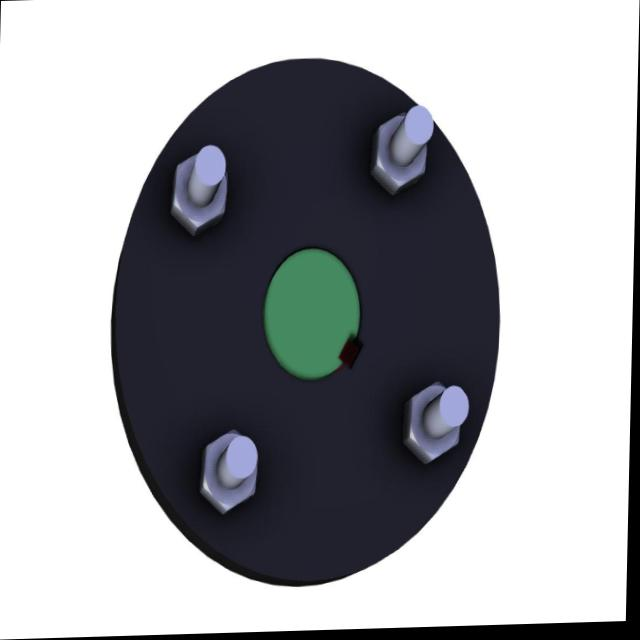Regular bolt: (370, 111, 431, 198), (202, 431, 261, 518), (407, 383, 468, 464), (173, 151, 229, 238)
